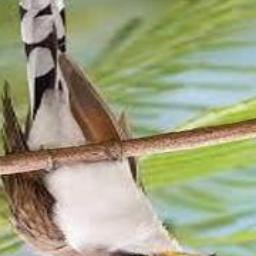Cuckoo: (0, 0, 216, 256)
